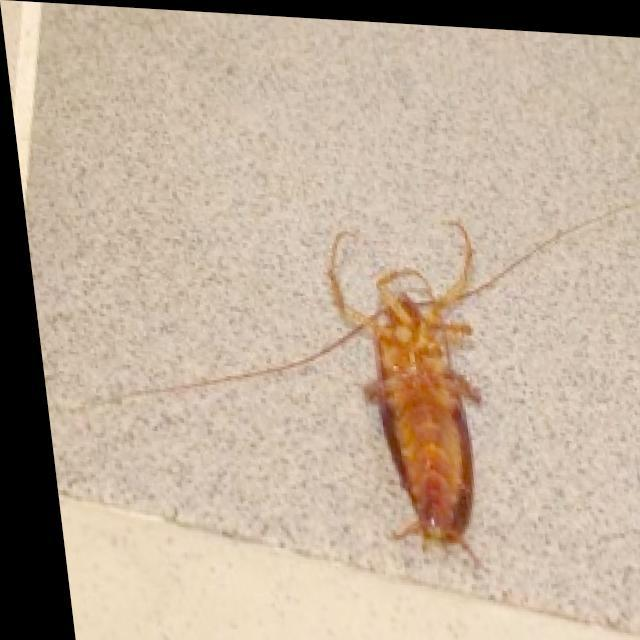cockroach: (302, 194, 520, 617)
